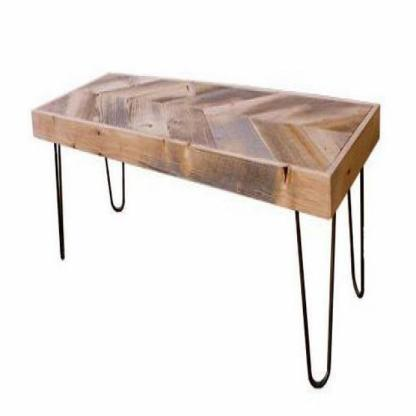Table: (17, 49, 397, 409)
